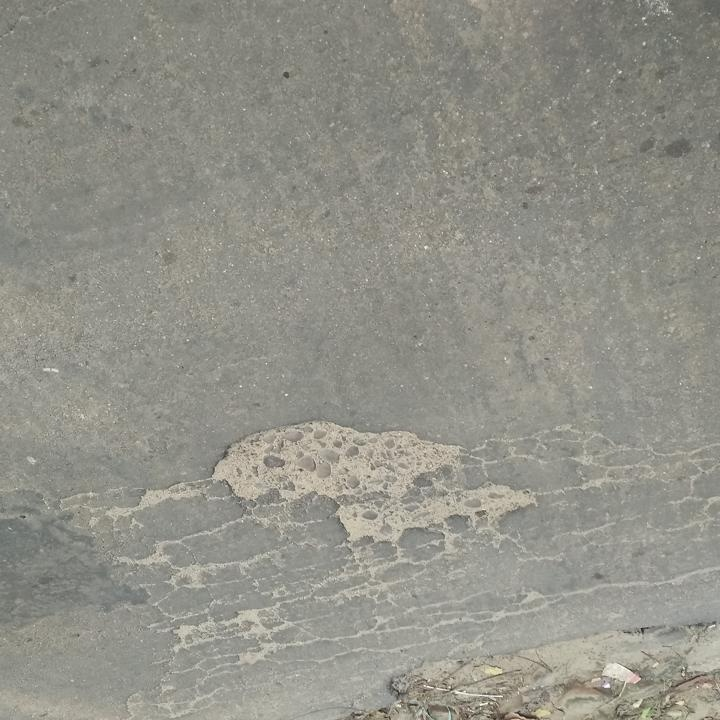pothole: (207, 418, 545, 549)
